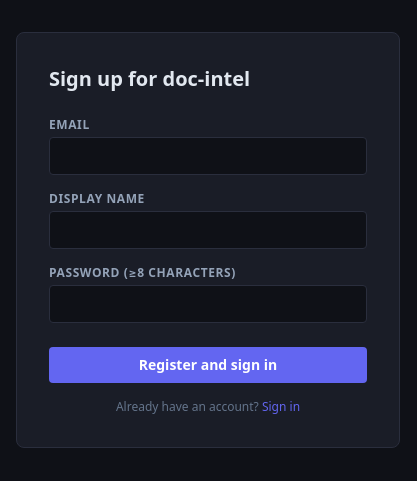
Test case: RegisterPage › shows error when register throws
Type "dup@x.com" into the field labelled "Email" at (208, 156), box [49,137,367,175]
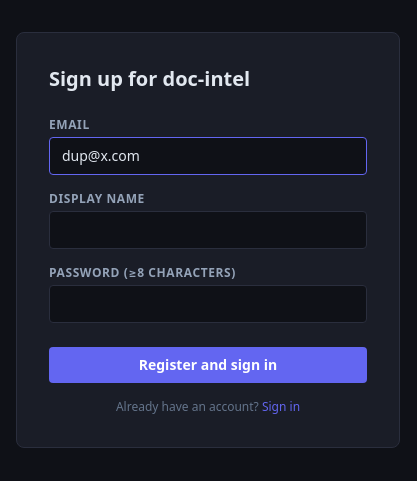
Type "Dup" into the field labelled "Display name" at (208, 230), box [49,211,367,249]
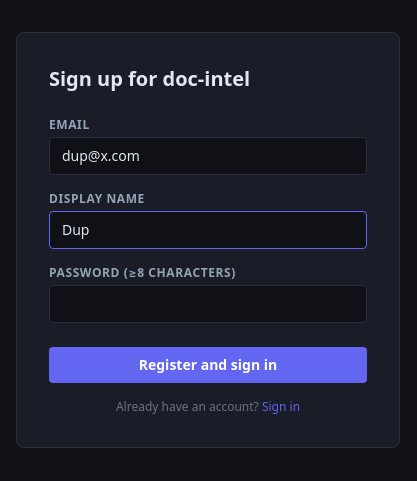
Type "secret123" into the password field labelled "Password (≥8 characters)" at (208, 304), box [49,285,367,323]
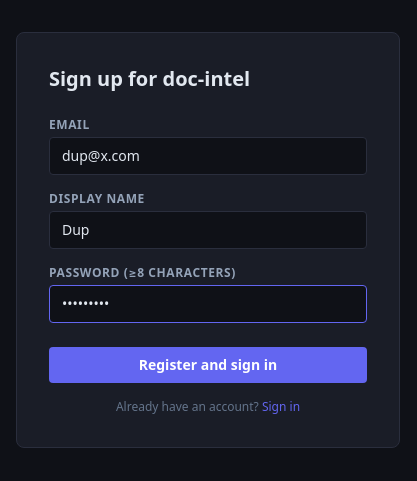
Click the button "Register and sign in" at (208, 365), box [49,347,367,383]
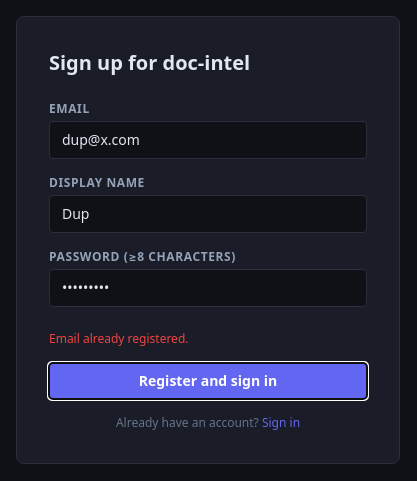
expect the text "Email already registered." is shown: met, box [49,330,188,347]
